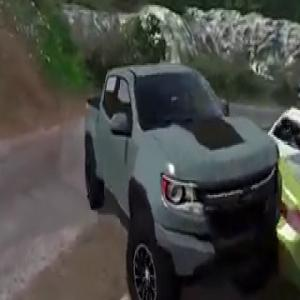negligible: (78, 46, 300, 300)
